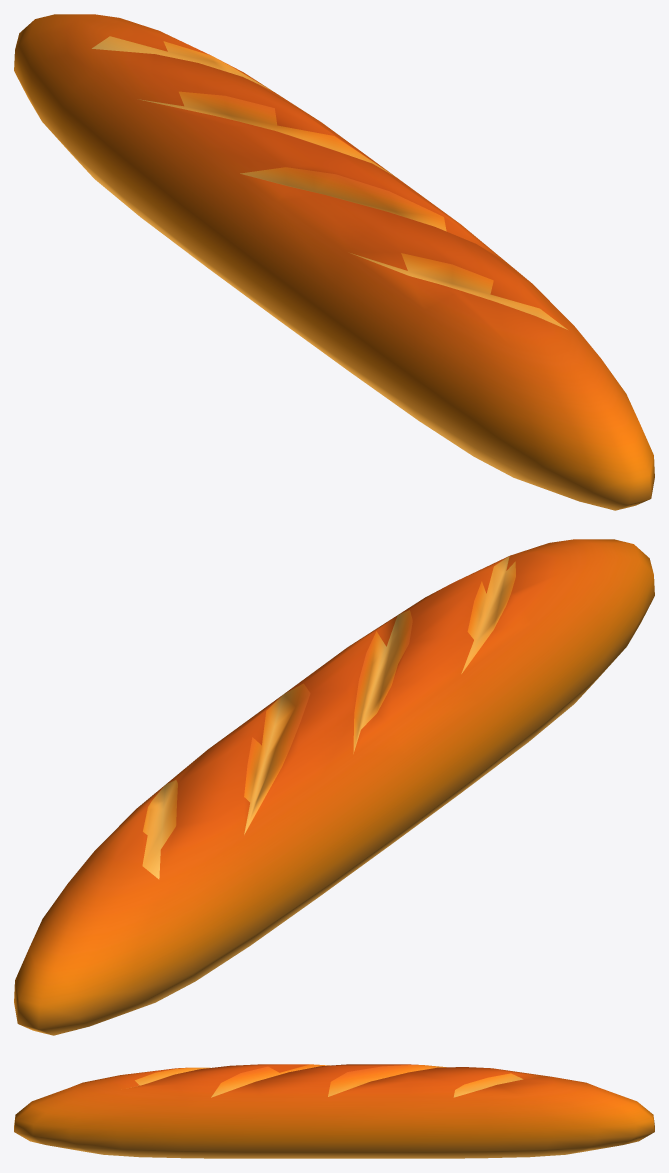
3 views of the same model, one above another, from view 1: azimuth 30°, elevation 25°; view 2: azimuth 150°, elevation 25°; view 3: azimuth 270°, elevation 25° (orthographic). The views are drawn at different scales.
Parts seen in each view (by area): view 1: 8-4; view 2: 8-4; view 3: 8-4.
Boxes of the visible parts, <box> form: 8-4: <box>14,14,654,510</box>; 8-4: <box>14,539,654,1035</box>; 8-4: <box>14,1064,654,1158</box>.
Size of the model in its own units: 10.23 by 8.83 by 68.24.
